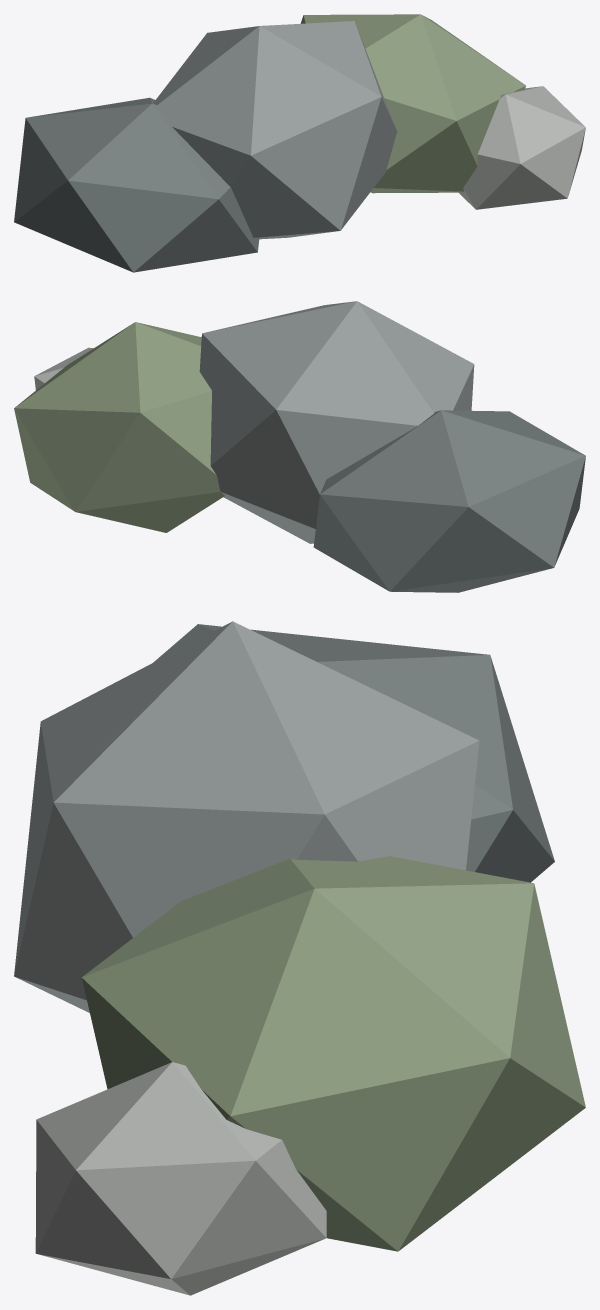
The model's file is rock_outcrop_low_3x2.glb.
3 renders of one model, top to bottom at view 1: azimuth 30°, elevation 25°; view 2: azimuth 150°, elevation 25°; view 3: azimuth 270°, elevation 25°, orthographic. The views are drawn at different scales.
Parts seen in each view (by area): view 1: outcrop_low_02, outcrop_low_01, outcrop_low_03, outcrop_low_04; view 2: outcrop_low_02, outcrop_low_01, outcrop_low_03, outcrop_low_04; view 3: outcrop_low_03, outcrop_low_02, outcrop_low_04, outcrop_low_01.
Part boxes in pixels (left/top/right/bottom): outcrop_low_02: left=153, top=21, right=397, bottom=239; outcrop_low_01: left=14, top=97, right=259, bottom=272; outcrop_low_03: left=300, top=14, right=525, bottom=193; outcrop_low_04: left=458, top=86, right=585, bottom=209; outcrop_low_02: left=199, top=301, right=474, bottom=543; outcrop_low_01: left=313, top=410, right=585, bottom=592; outcrop_low_03: left=14, top=322, right=224, bottom=532; outcrop_low_04: left=34, top=347, right=93, bottom=389; outcrop_low_03: left=81, top=856, right=585, bottom=1251; outcrop_low_02: left=14, top=621, right=479, bottom=1012; outcrop_low_04: left=35, top=1062, right=326, bottom=1295; outcrop_low_01: left=153, top=624, right=554, bottom=882.
Bounding box in the file's own units: 3.22 × 1.35 × 1.58.
